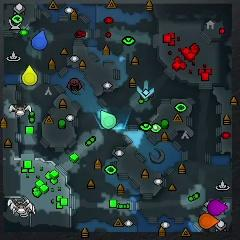p1: (32, 30, 48, 50)
p2: (100, 110, 117, 130)
p3: (208, 200, 228, 216)
p4: (22, 65, 37, 85)
p5: (199, 213, 219, 229)
x3: (137, 80, 154, 99)
